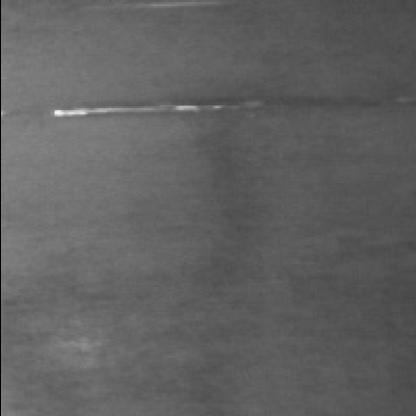scratches: (44, 93, 264, 118)
